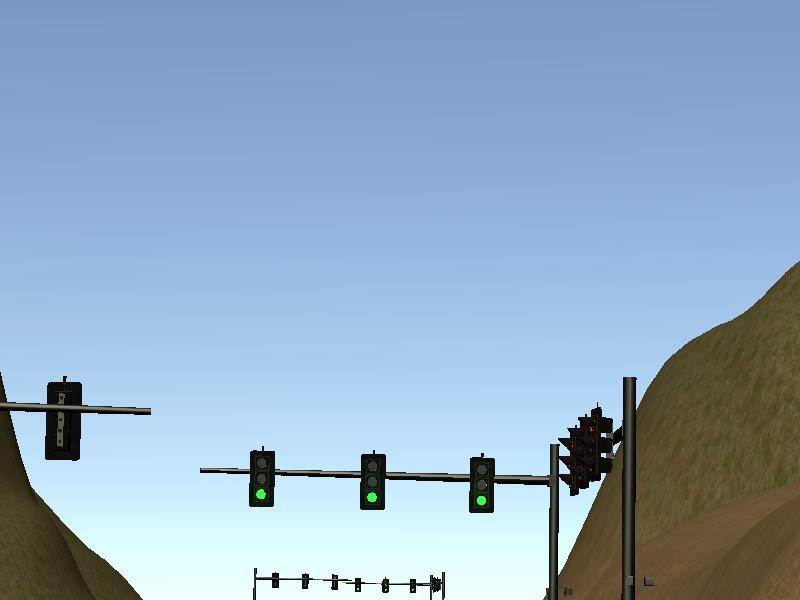green: (250, 451, 276, 509), (469, 457, 495, 513), (360, 454, 386, 510), (383, 578, 391, 594), (410, 579, 418, 594), (355, 579, 361, 592)
